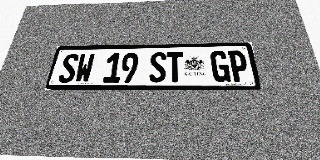1: (103, 53, 123, 83)
9: (120, 52, 139, 83)
G: (210, 51, 231, 82)
P: (227, 51, 250, 82)
S: (57, 53, 80, 83), (149, 52, 166, 83)
T: (166, 52, 184, 83)
W: (74, 53, 95, 83)
